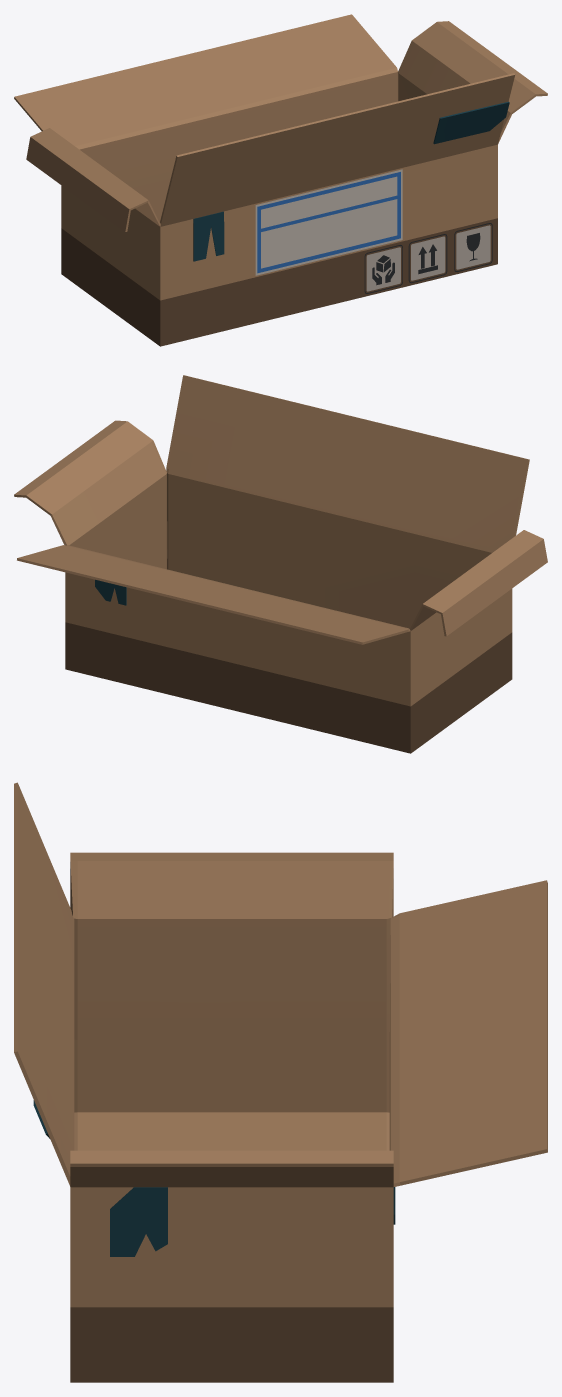
Rendered from SM_Cardboard_Box_02_Opem.glb.
3 views of the same model, one above another, from view 1: azimuth 30°, elevation 25°; view 2: azimuth 150°, elevation 25°; view 3: azimuth 270°, elevation 25° (orthographic). The views are drawn at different scales.
Visible parts, largest first — view 1: SM_Cardboard_Box_02_Opem; view 2: SM_Cardboard_Box_02_Opem; view 3: SM_Cardboard_Box_02_Opem.
Boxes of the visible parts, x1,y1,x2,y2 form: SM_Cardboard_Box_02_Opem: [14, 14, 547, 346]; SM_Cardboard_Box_02_Opem: [14, 375, 547, 753]; SM_Cardboard_Box_02_Opem: [14, 782, 547, 1382].
Bounding box in the file's own units: 0.3696 × 0.1696 × 0.2478.
Materials: 1 (1 with a texture image).
